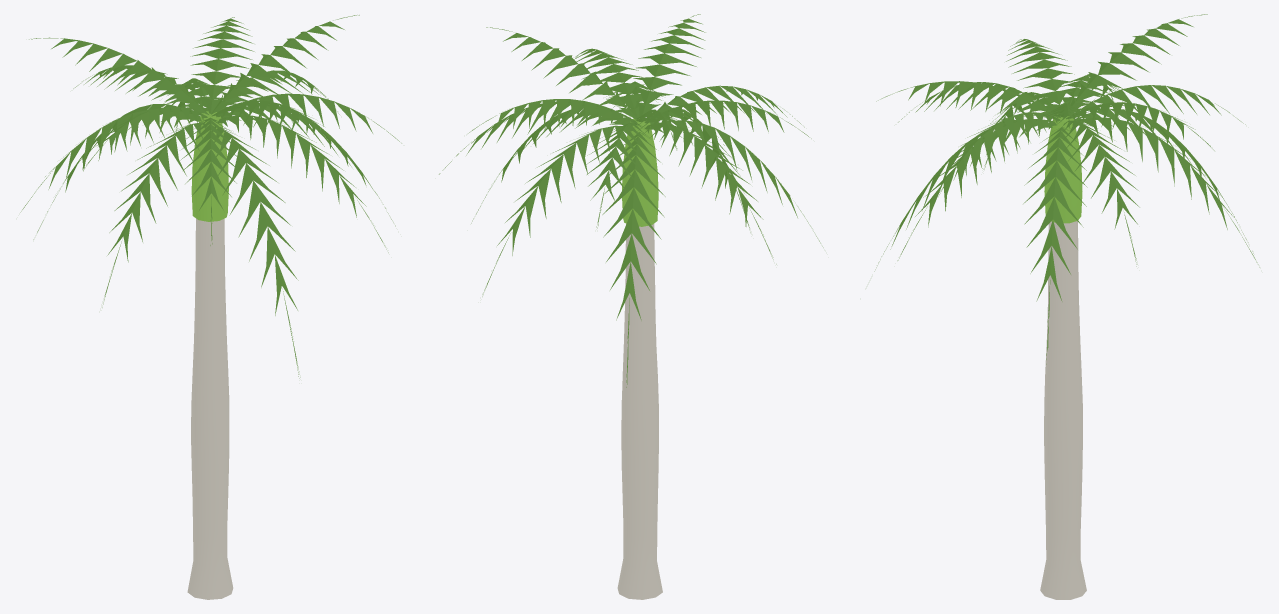
Rendered from Blender_RoyalPalm_2.glb.
3 renders of one model, left to right at view 1: azimuth 30°, elevation 25°; view 2: azimuth 150°, elevation 25°; view 3: azimuth 270°, elevation 25°, orthographic.
Parts seen in each view (by area): view 1: Blender_RoyalPalm_2; view 2: Blender_RoyalPalm_2; view 3: Blender_RoyalPalm_2.
Part boxes in pixels (x1,y1,x2,y2): Blender_RoyalPalm_2: (20,15,401,599); Blender_RoyalPalm_2: (439,14,823,599); Blender_RoyalPalm_2: (874,14,1259,599).
Bounding box in the file's own units: 11.29 × 16.47 × 11.33.
